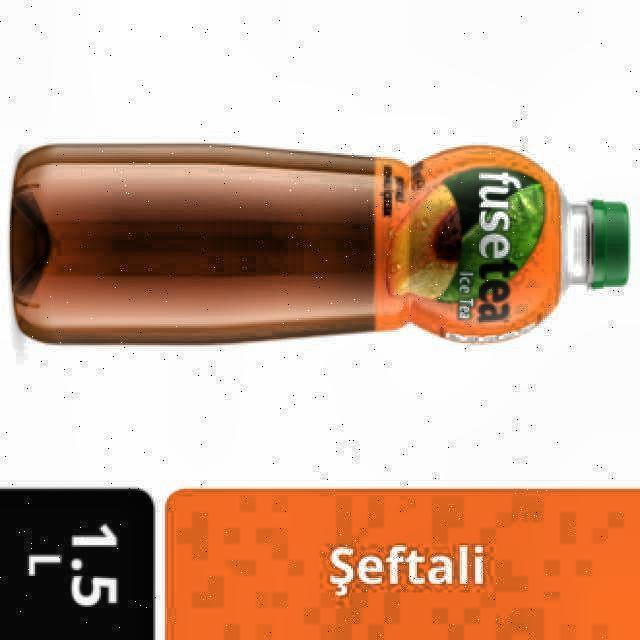plastic: (11, 145, 629, 343)
